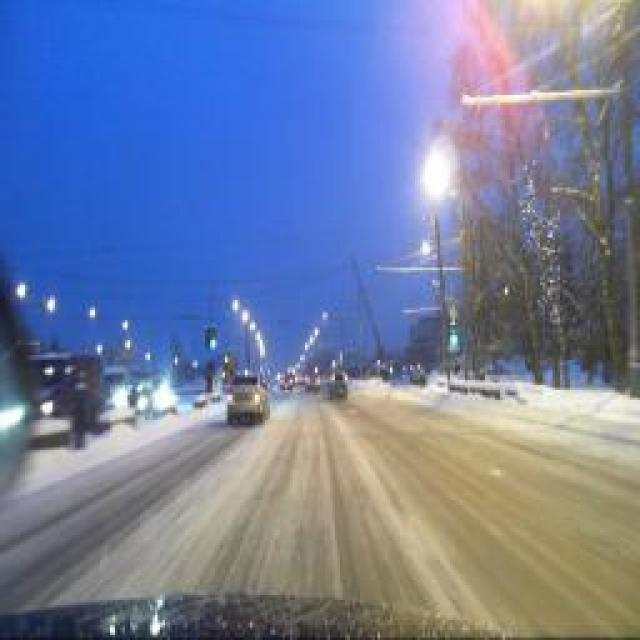sign: (471, 320, 481, 338)
